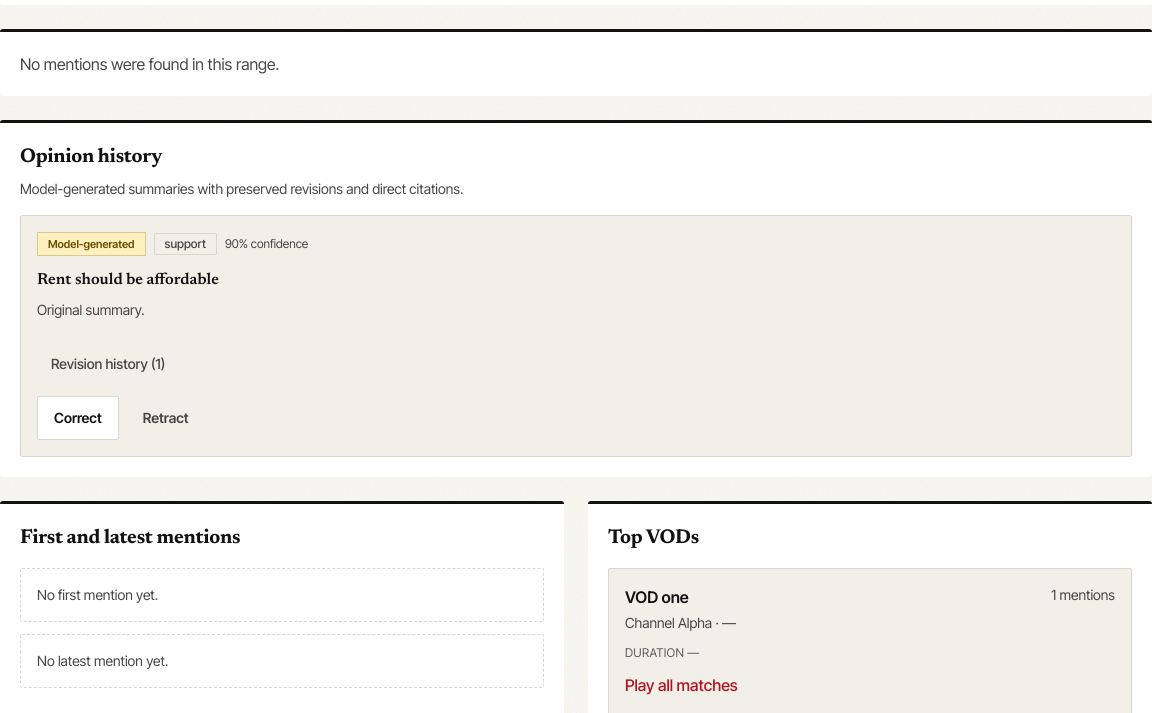
Test case: TopicPage › records opinion corrections and retractions with reasons and revision history
This screenshot has width=1152, height=713.
(page scrolled)
What coordinates should you click on to do the following:
click the button "Correct"
I would click on:
 (78, 418)
Its box is [37,396,119,440].
(page scrolled)
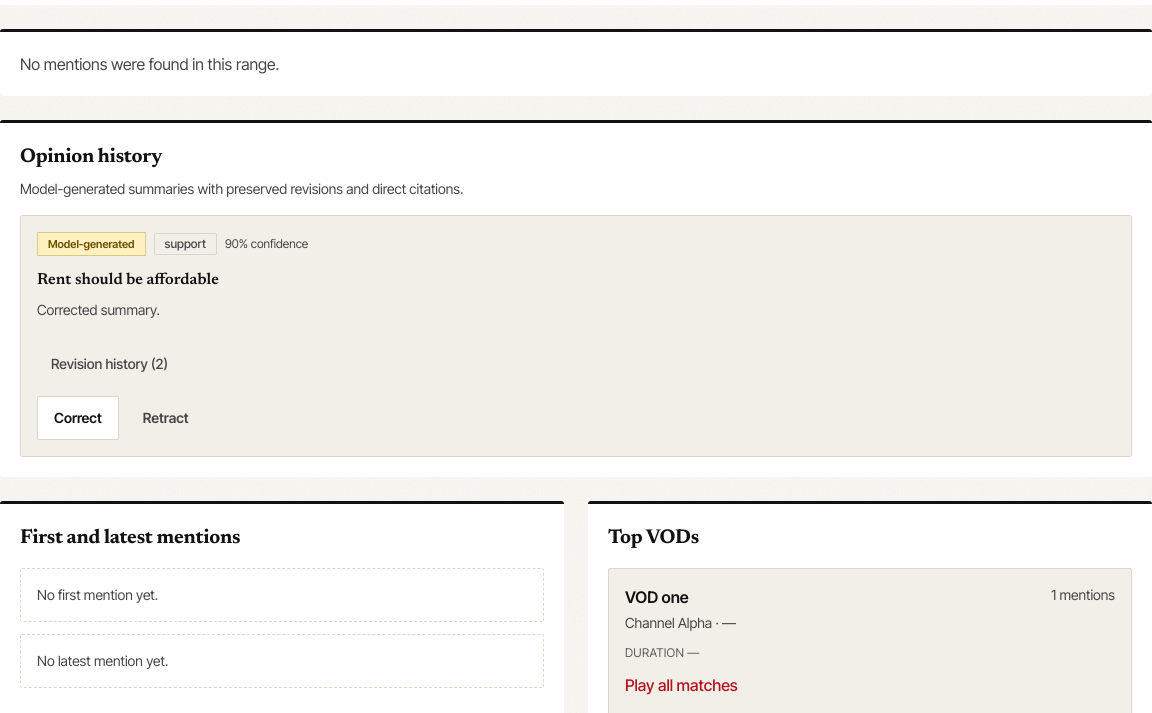
Result: the heading "Revision history (2)" is shown at [51,355,168,372]
What coordinates should you click on to do the following:
click the button "Retract"
I would click on:
 (166, 418)
Its box is [127,396,205,440].
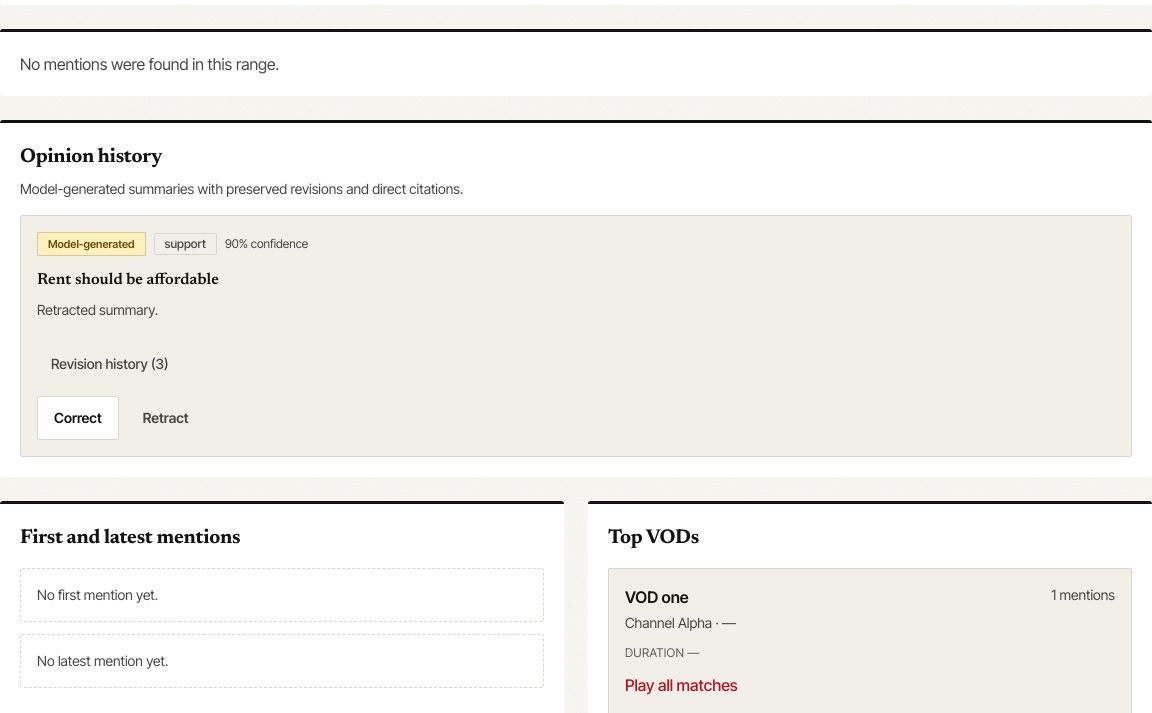
Result: the heading "Revision history (3)" is shown at [51,355,168,372]
